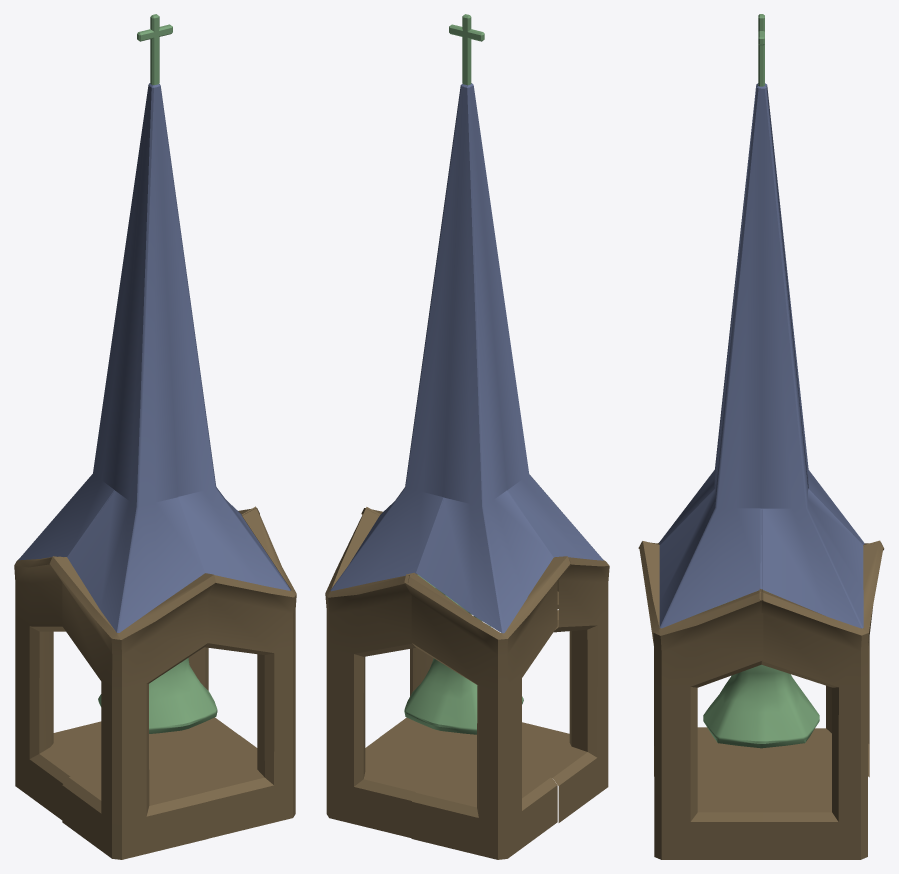
Rendered from ChurchTower.fbx.
3 views of the same model, side by side, from view 1: azimuth 30°, elevation 25°; view 2: azimuth 150°, elevation 25°; view 3: azimuth 270°, elevation 25° (orthographic).
Visible parts, largest first — view 1: Roof, BellChamber, BellChamber1, Roof3, BellChamber3, Roof1, Bell, BellChamber2, Cross; view 2: Roof1, BellChamber3, BellChamber2, Roof2, BellChamber, Roof, Bell, BellChamber1, Cross; view 3: BellChamber1, Roof2, BellChamber2, Roof3, Bell, BellChamber3, BellChamber, Roof, Roof1, Cross.
Boxes of the visible parts, x1,y1,x2,y2 form: Roof: [67, 84, 204, 632]; BellChamber: [49, 556, 215, 859]; BellChamber1: [155, 506, 296, 838]; Roof3: [157, 84, 290, 590]; BellChamber3: [14, 556, 156, 819]; Roof1: [18, 83, 150, 560]; Bell: [98, 658, 217, 733]; BellChamber2: [149, 508, 259, 757]; Cross: [137, 14, 172, 85]; Roof1: [416, 84, 553, 633]; BellChamber3: [404, 556, 570, 859]; BellChamber2: [325, 507, 468, 838]; Roof2: [330, 84, 464, 591]; BellChamber: [468, 557, 609, 822]; Roof: [470, 83, 603, 560]; Bell: [404, 613, 523, 734]; BellChamber1: [361, 508, 476, 756]; Cross: [449, 14, 484, 85]; BellChamber1: [639, 541, 763, 859]; Roof2: [760, 85, 863, 628]; BellChamber2: [759, 540, 883, 859]; Roof3: [659, 85, 762, 628]; Bell: [703, 664, 819, 748]; BellChamber3: [760, 542, 884, 777]; BellChamber: [638, 541, 760, 776]; Roof: [659, 83, 758, 544]; Roof1: [765, 83, 864, 544]; Cross: [758, 14, 764, 86].
Size of the model in its own units: 4.56 by 16.32 by 4.55.
